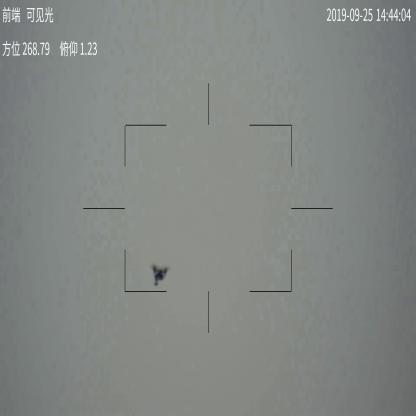uav: (154, 268, 174, 295)
